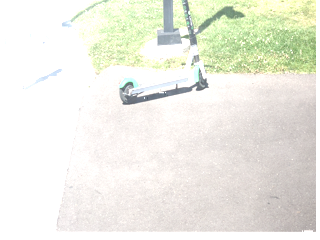Edge: (67, 15, 109, 82)
Obstacle: (118, 2, 217, 112)
